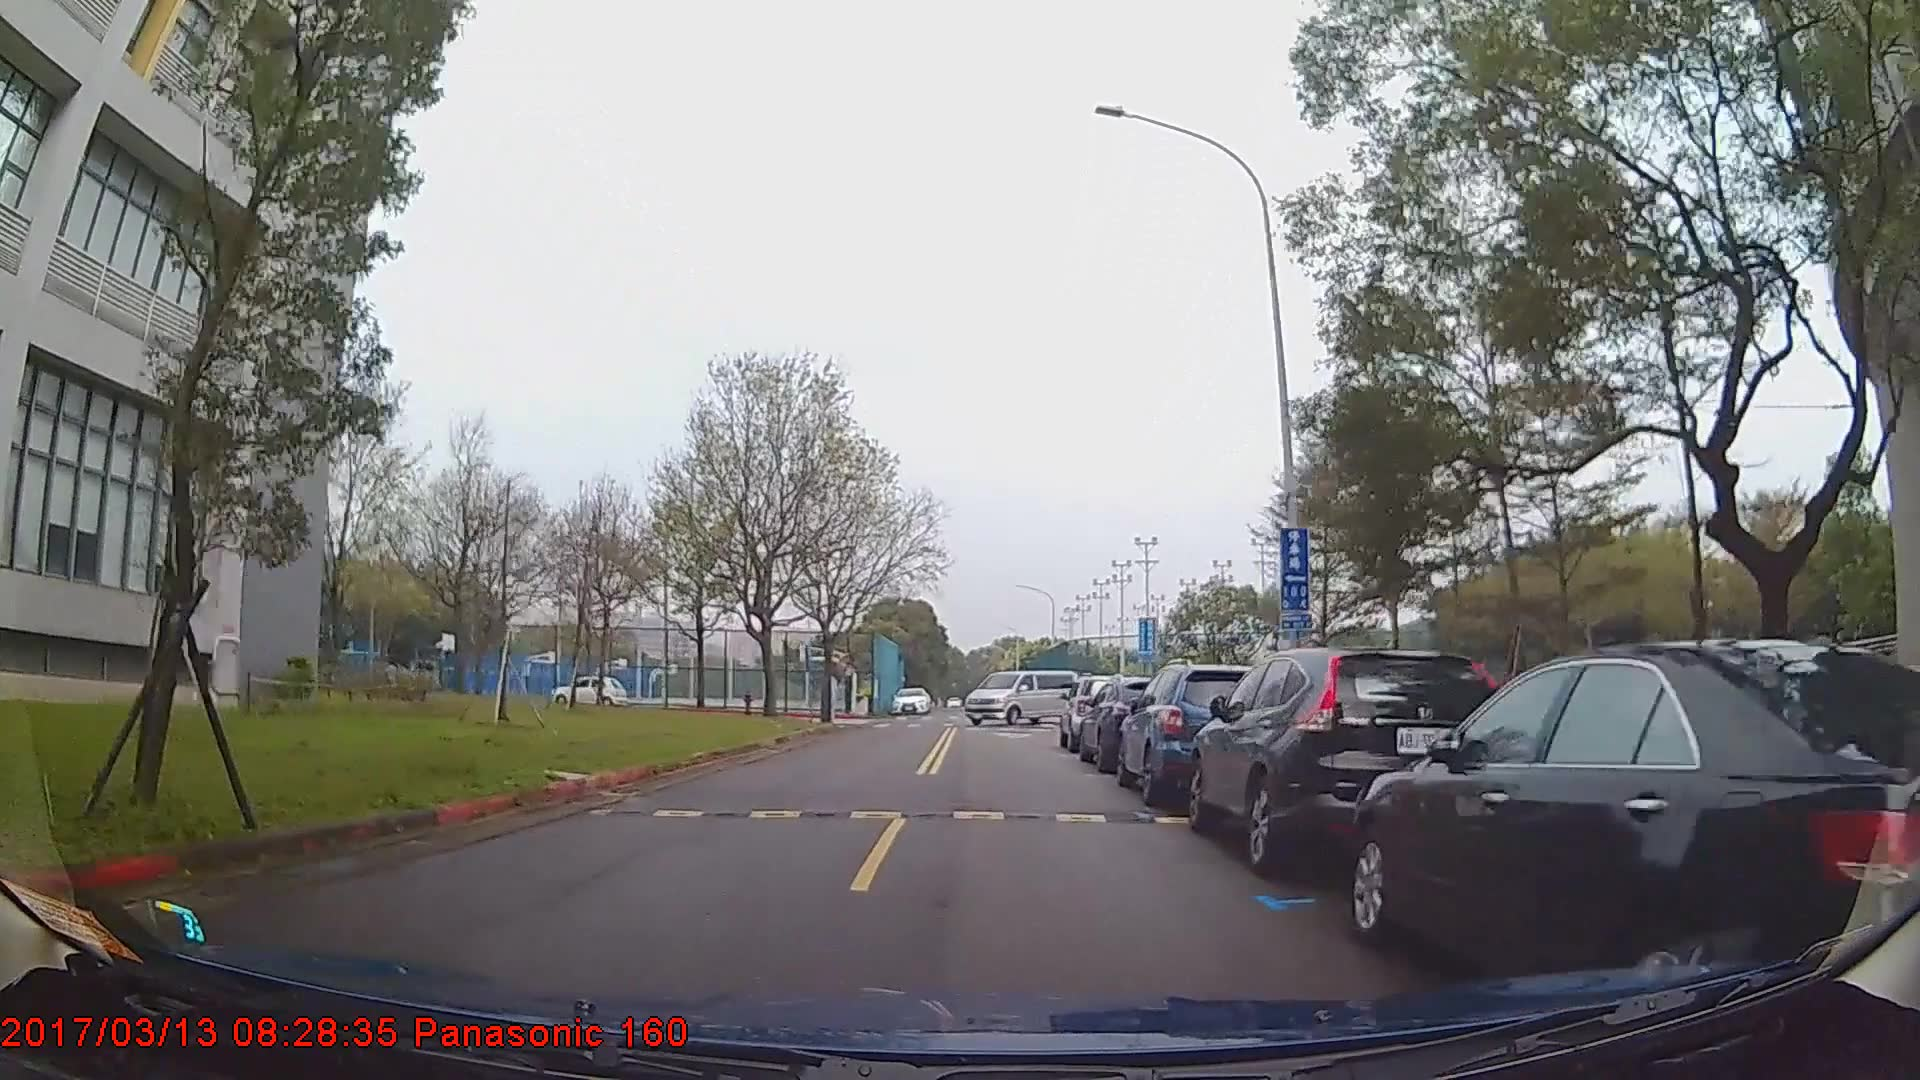vehicle: (1345, 636, 1920, 1015), (1185, 642, 1506, 876), (1114, 659, 1271, 803), (965, 666, 1080, 721), (549, 670, 626, 707), (890, 684, 932, 713)
